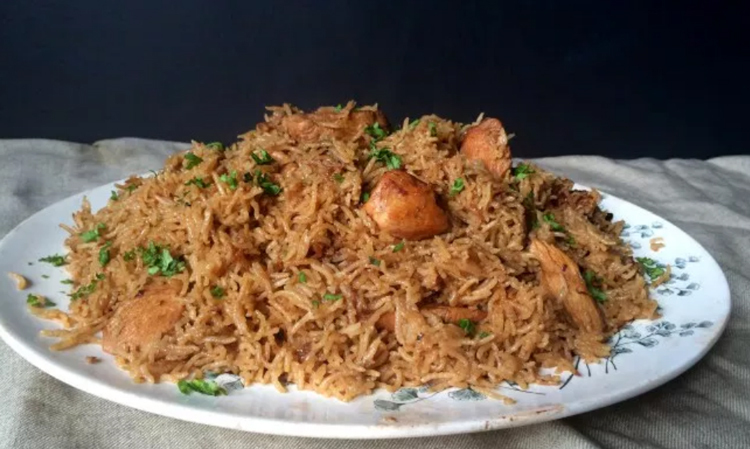tehari: (23, 109, 710, 403)
